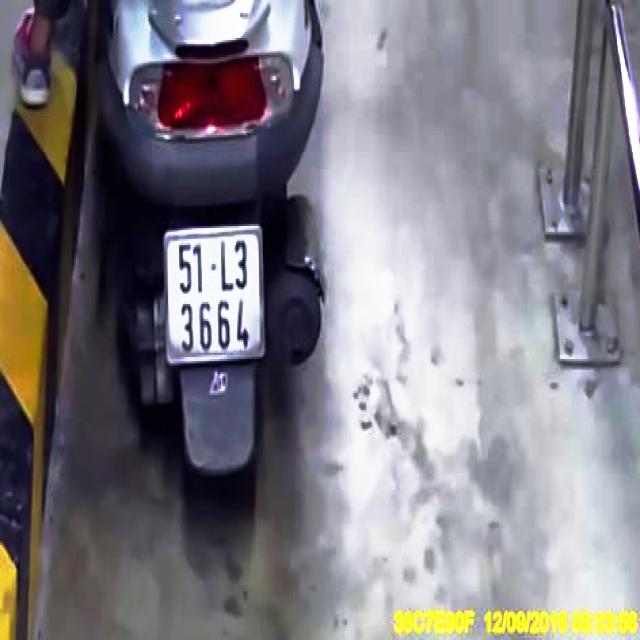license_plate: (168, 229, 263, 362)
